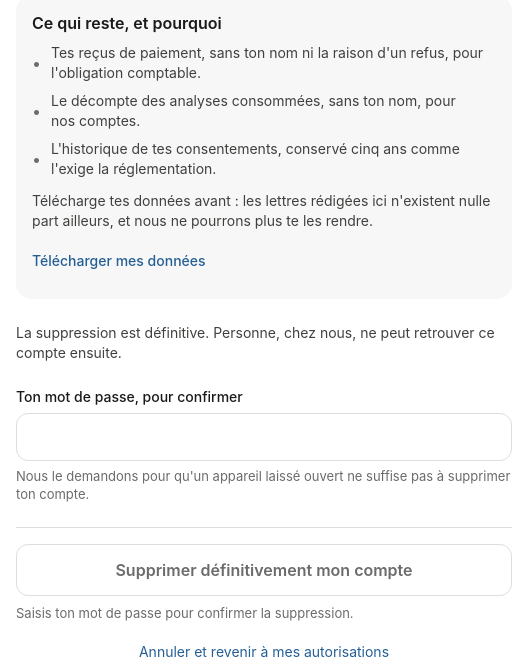
Test: Suppression de compte › dit ce qui est conservé quand le réseau manque
(page scrolled)
Type "demonstration-2026" into the password field labelled "Ton mot de passe, pour confirmer" at (264, 437), box [16,413,512,461]
(page scrolled)
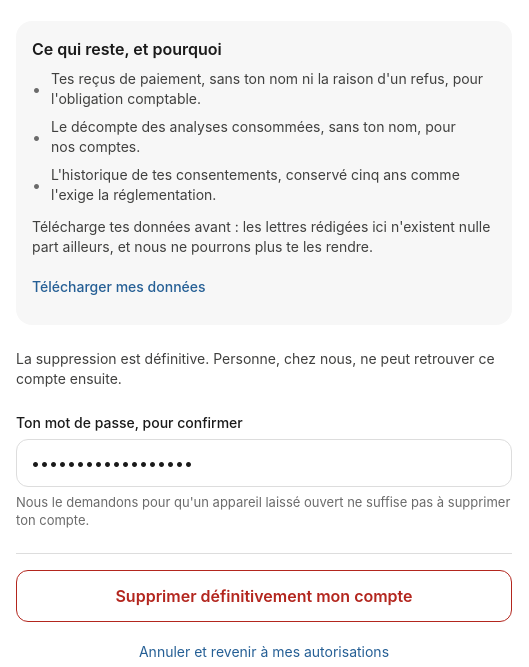
Click the button "Supprimer définitivement mon compte" at (264, 596), box [16,570,512,622]
(page scrolled)
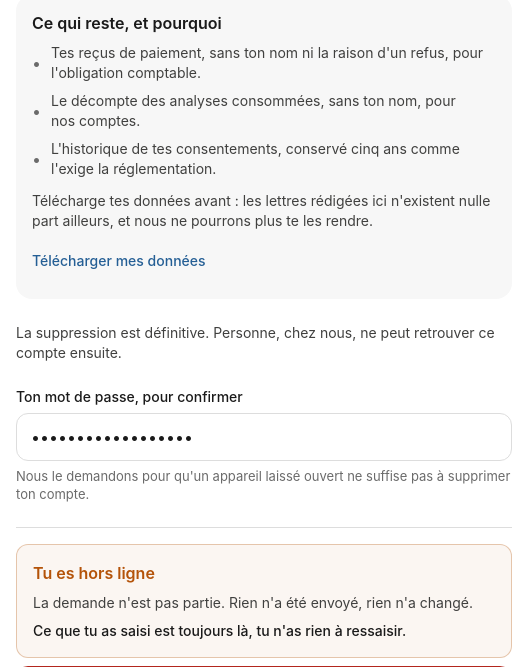
Expected: the message shows "Tu es hors ligne", [33,563,155,583]
